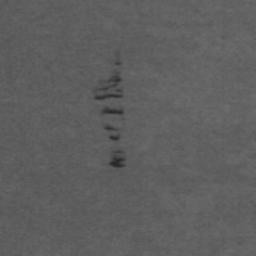Secondary rust skin: (92, 74, 125, 102), (108, 149, 127, 169), (103, 124, 121, 142), (100, 105, 125, 116)
